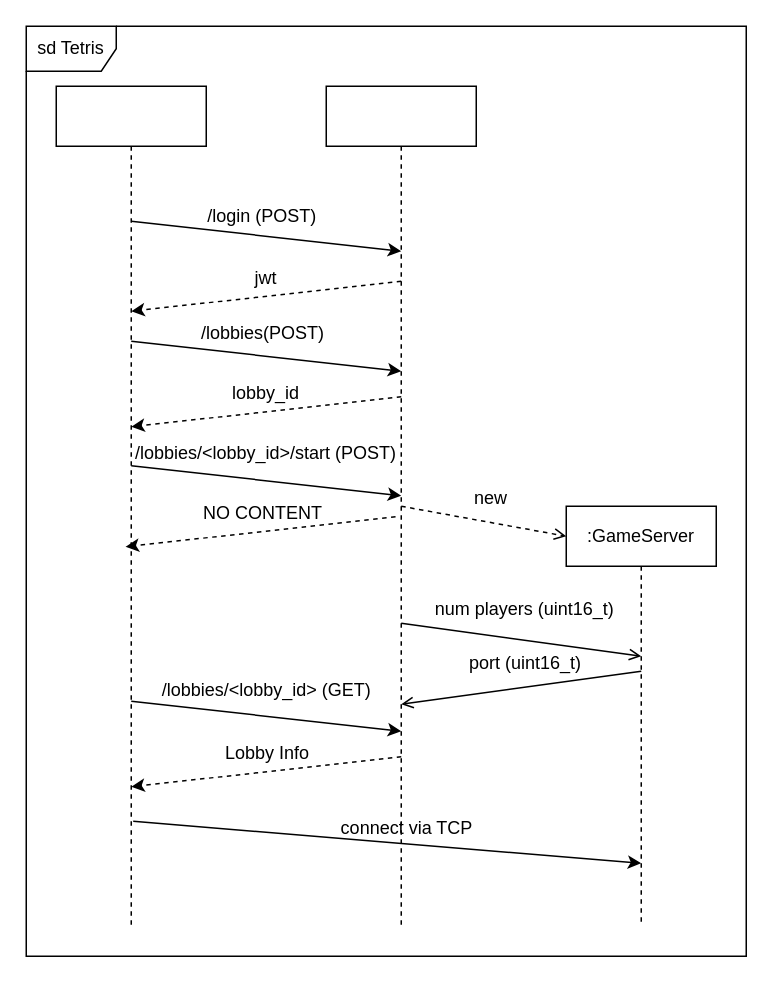
This 773x983 diagram has some shape labels left out. Each missing label, with the box of its shape:
:Client: (55, 85, 206, 926)
:LobbyServer: (325, 85, 476, 926)
